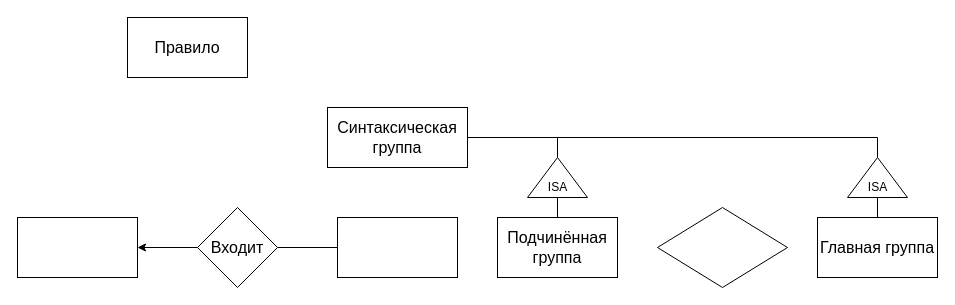
The diagram is 955 pixels wide and 305 high, and some of its shapes have lost their labels. Here are the shapes that lost their labels. From the top down, the centre of each, then its label:
(x=77, y=247): Предложение
(x=397, y=247): Лексема
(x=722, y=247): Подчиняется
